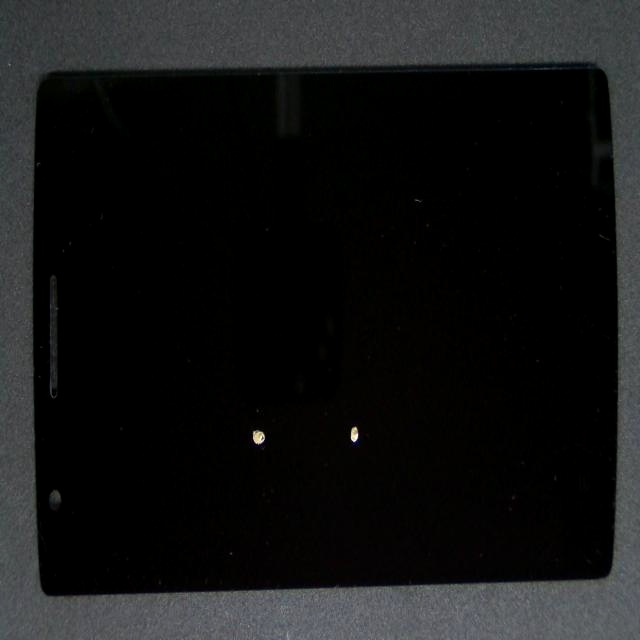stain: (196, 207, 542, 618), (127, 157, 369, 629)
